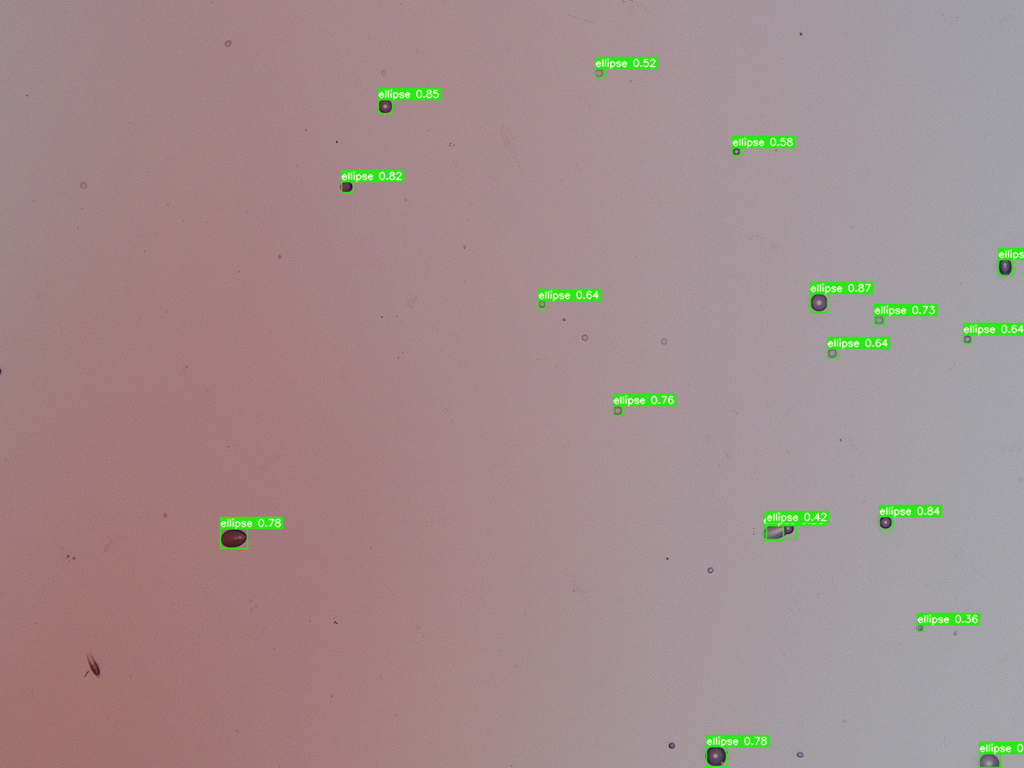circle: (705, 745, 725, 766), (978, 754, 998, 768), (811, 294, 827, 310), (378, 99, 392, 113), (879, 516, 891, 527), (783, 523, 793, 533), (874, 315, 883, 324), (613, 406, 621, 415), (828, 349, 836, 357), (963, 335, 971, 342), (595, 69, 602, 76), (538, 300, 545, 307), (916, 624, 923, 631), (733, 148, 739, 155), (661, 338, 667, 344), (582, 334, 587, 340), (708, 567, 713, 573), (669, 743, 674, 748)
ellipse: (220, 528, 247, 548), (998, 258, 1012, 276), (339, 181, 353, 192)
